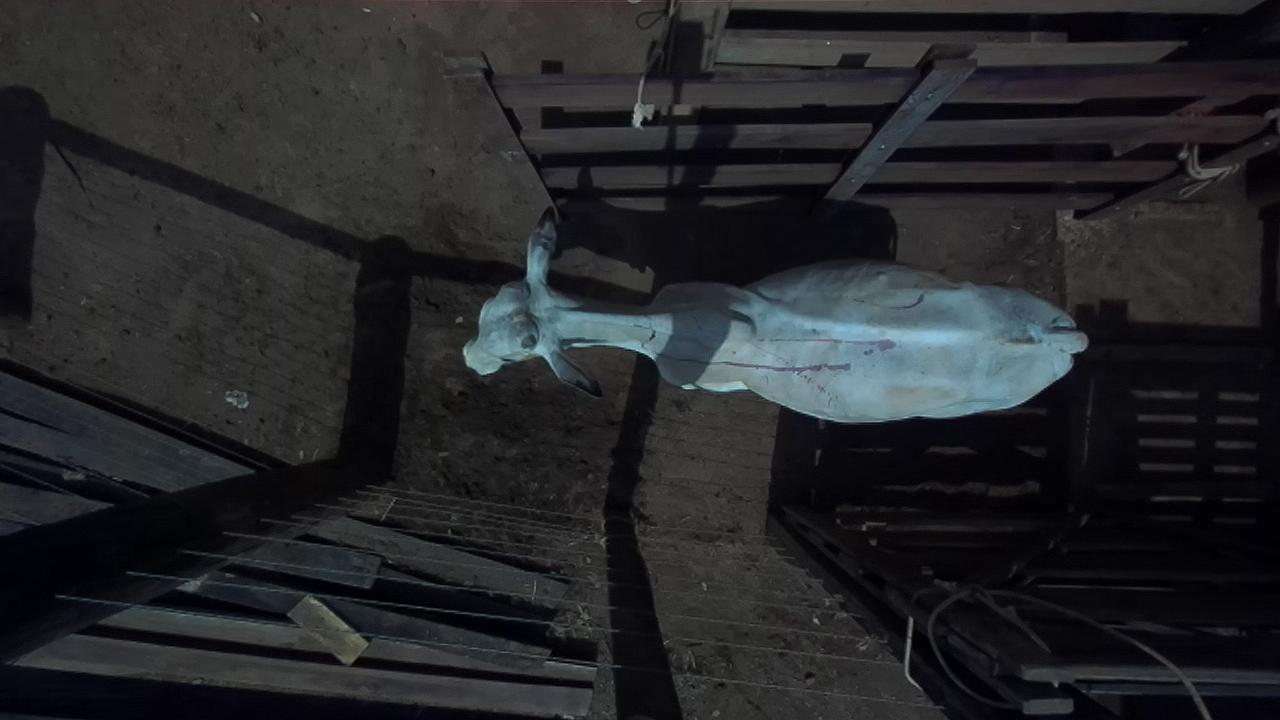cattle: (461, 204, 1089, 425)
